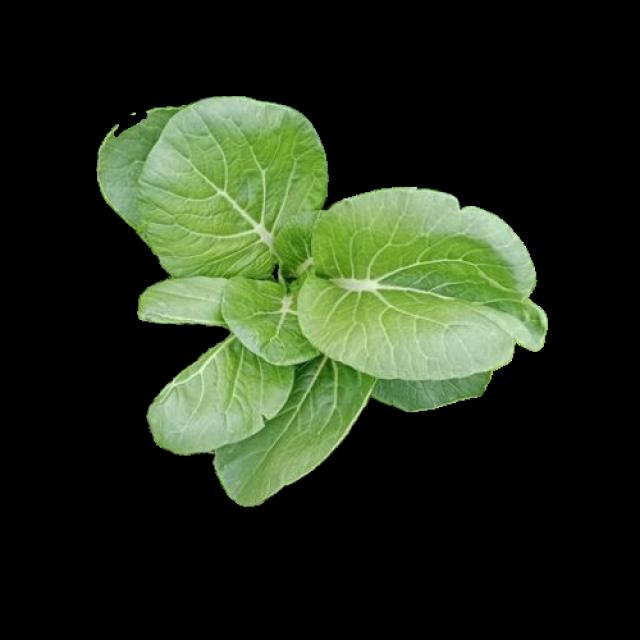healthy: (96, 87, 544, 504)
mature: (99, 89, 546, 507)
